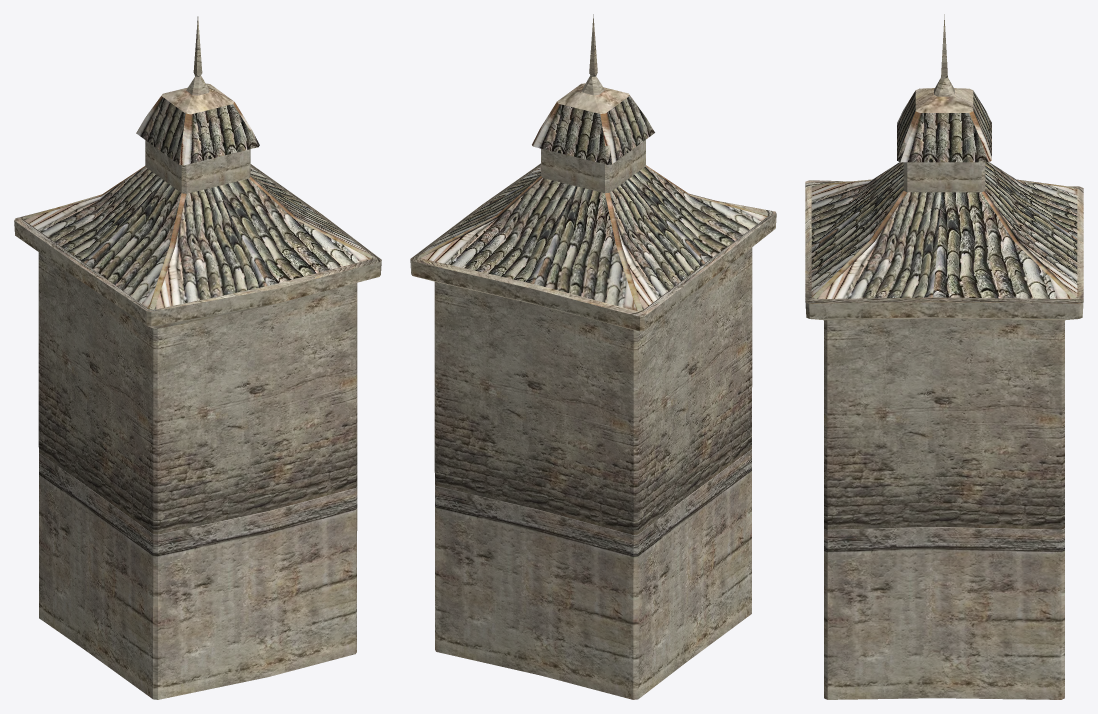
File: TW2_5_HOUSE_01_13-transformed.glb
The picture shows the model from 3 angles, left to right: view 1: azimuth 30°, elevation 25°; view 2: azimuth 150°, elevation 25°; view 3: azimuth 270°, elevation 25°; orthographic projection. The views are drawn at different scales.
Visible parts, largest first — view 1: default; view 2: default; view 3: default.
Boxes of the visible parts, box(x1,y1,x2,y2) form: default: box(14, 16, 381, 699); default: box(410, 14, 776, 699); default: box(805, 14, 1083, 699).
Bounding box in the file's own units: 3.57 × 9.03 × 3.57.
2 materials, 2 textured.
